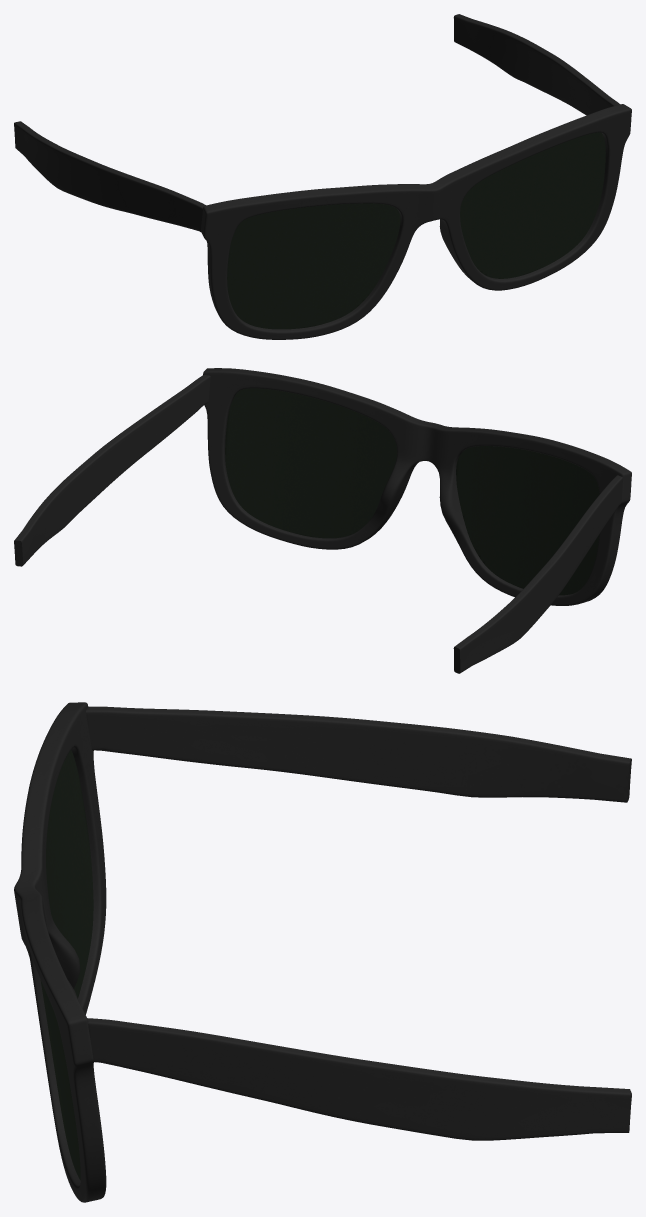
The model's file is JUSTIN_app_GLB.glb.
3 views of the same model, one above another, from view 1: azimuth 30°, elevation 25°; view 2: azimuth 150°, elevation 25°; view 3: azimuth 270°, elevation 25° (orthographic). The views are drawn at different scales.
Parts seen in each view (by area): view 1: armacao_obj; view 2: armacao_obj; view 3: armacao_obj.
Part boxes in pixels (x1,y1,x2,y2): armacao_obj: (14, 14, 631, 339); armacao_obj: (14, 368, 631, 673); armacao_obj: (14, 702, 631, 1202).
Size of the model in its own units: 0.1654 by 0.0529 by 0.1235.
2 materials, 2 textured.
